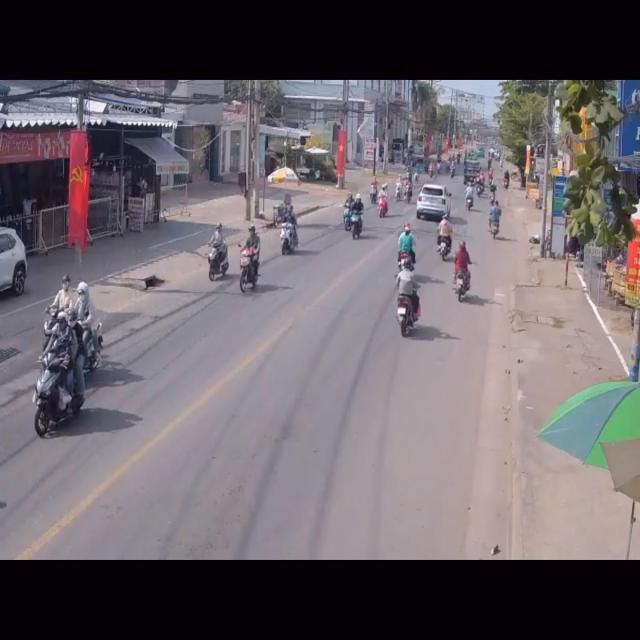car: (0, 227, 28, 306), (417, 183, 448, 220)
motorbike: (33, 321, 84, 440), (68, 281, 100, 367), (396, 268, 423, 339), (238, 224, 261, 296), (452, 243, 472, 303), (208, 224, 228, 284), (398, 225, 418, 273), (279, 212, 299, 258), (347, 192, 363, 240), (438, 216, 454, 261), (488, 202, 502, 240), (377, 188, 390, 218)
